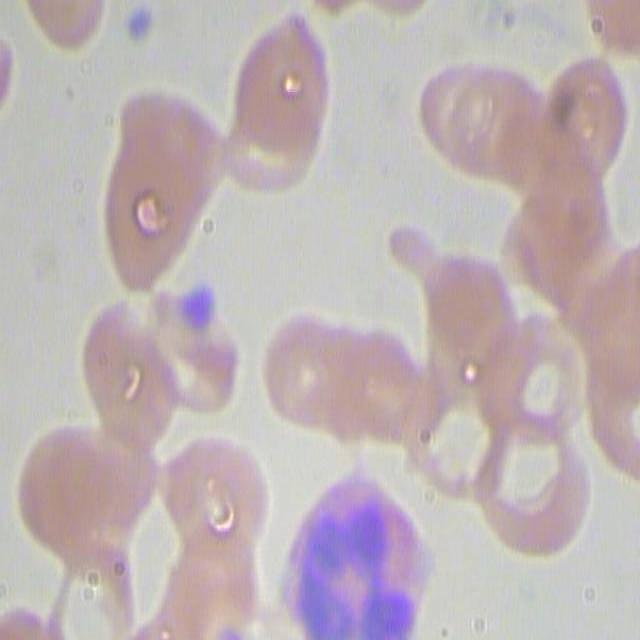RBC: (500, 129, 619, 354), (207, 8, 332, 202), (98, 76, 210, 289), (16, 424, 146, 572), (473, 413, 592, 562), (262, 314, 392, 450), (417, 59, 544, 192), (88, 297, 175, 469), (98, 483, 192, 633), (404, 374, 510, 501), (159, 431, 263, 557), (485, 330, 586, 443), (533, 58, 628, 176), (582, 331, 640, 486), (21, 0, 110, 49), (584, 0, 640, 63)
WBC: (283, 472, 429, 640)
platelets: (165, 272, 225, 342), (121, 3, 156, 49)
